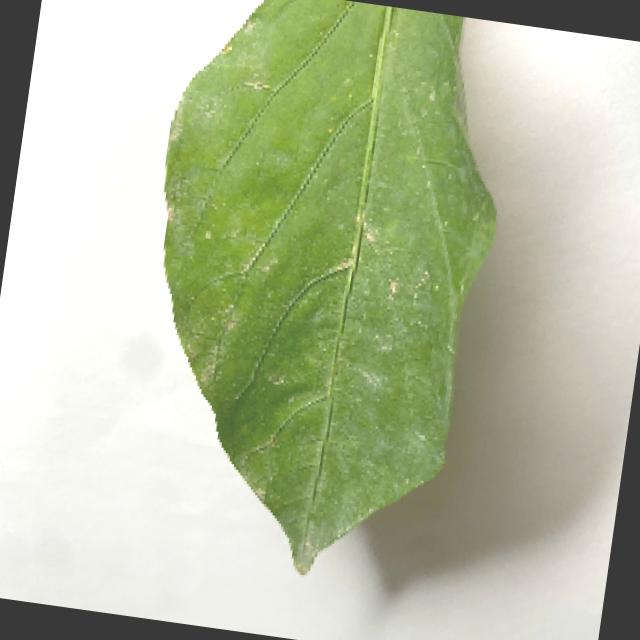Leaf: (107, 0, 525, 593)
